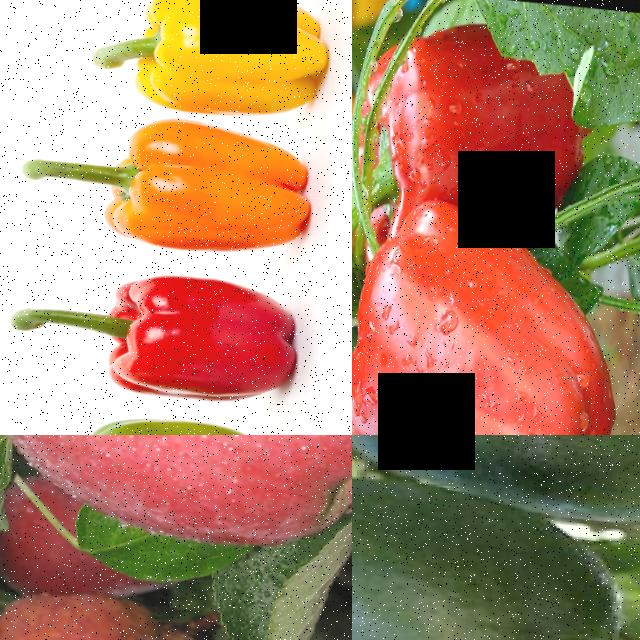apple: (0, 435, 352, 567)
avocado: (352, 459, 640, 640), (352, 435, 640, 530)
bell pepper: (352, 198, 632, 435), (0, 245, 322, 414), (12, 105, 312, 266), (66, 0, 352, 126), (367, 58, 576, 219), (0, 393, 313, 435)
